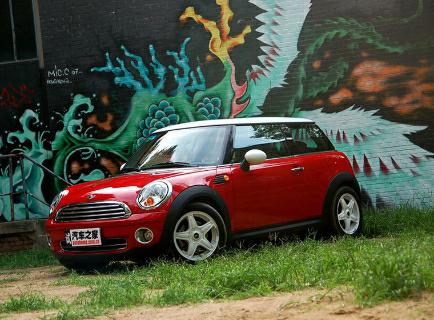MINI: (50, 117, 366, 266)
